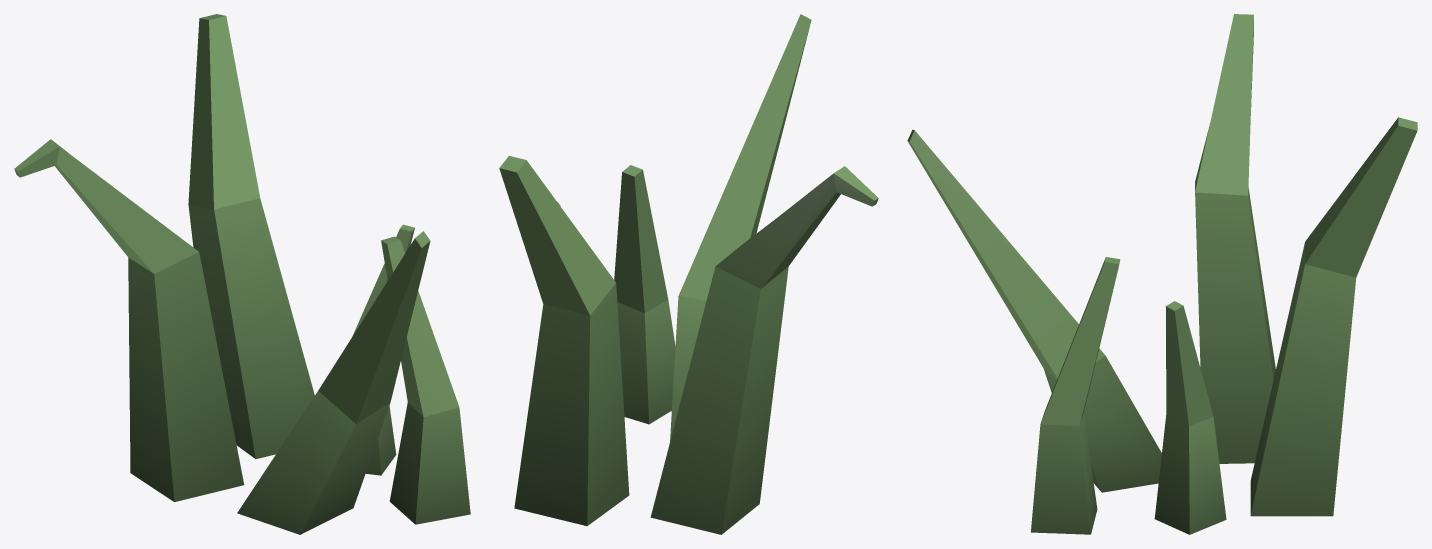
Rendered from grass.fbx.
3 views of the same model, side by side, from view 1: azimuth 30°, elevation 25°; view 2: azimuth 150°, elevation 25°; view 3: azimuth 270°, elevation 25° (orthographic).
Visible parts, largest first — view 1: grass; view 2: grass; view 3: grass.
Part boxes in pixels (x1,y1,x2,y2): grass: (14,14,470,534); grass: (499,14,878,534); grass: (907,14,1417,534).
Size of the model in its own units: 0.7863 by 0.7826 by 0.9582.
